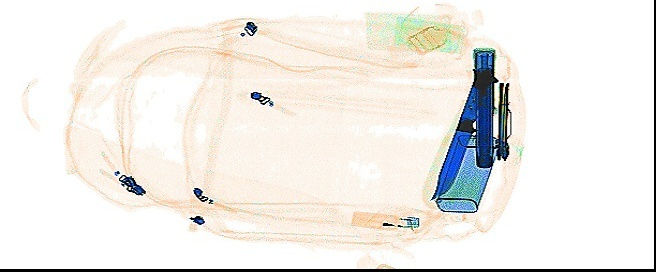knife: (420, 63, 497, 211), (492, 81, 512, 159)
lighter: (348, 207, 420, 231)
zippooil: (433, 132, 500, 213)
